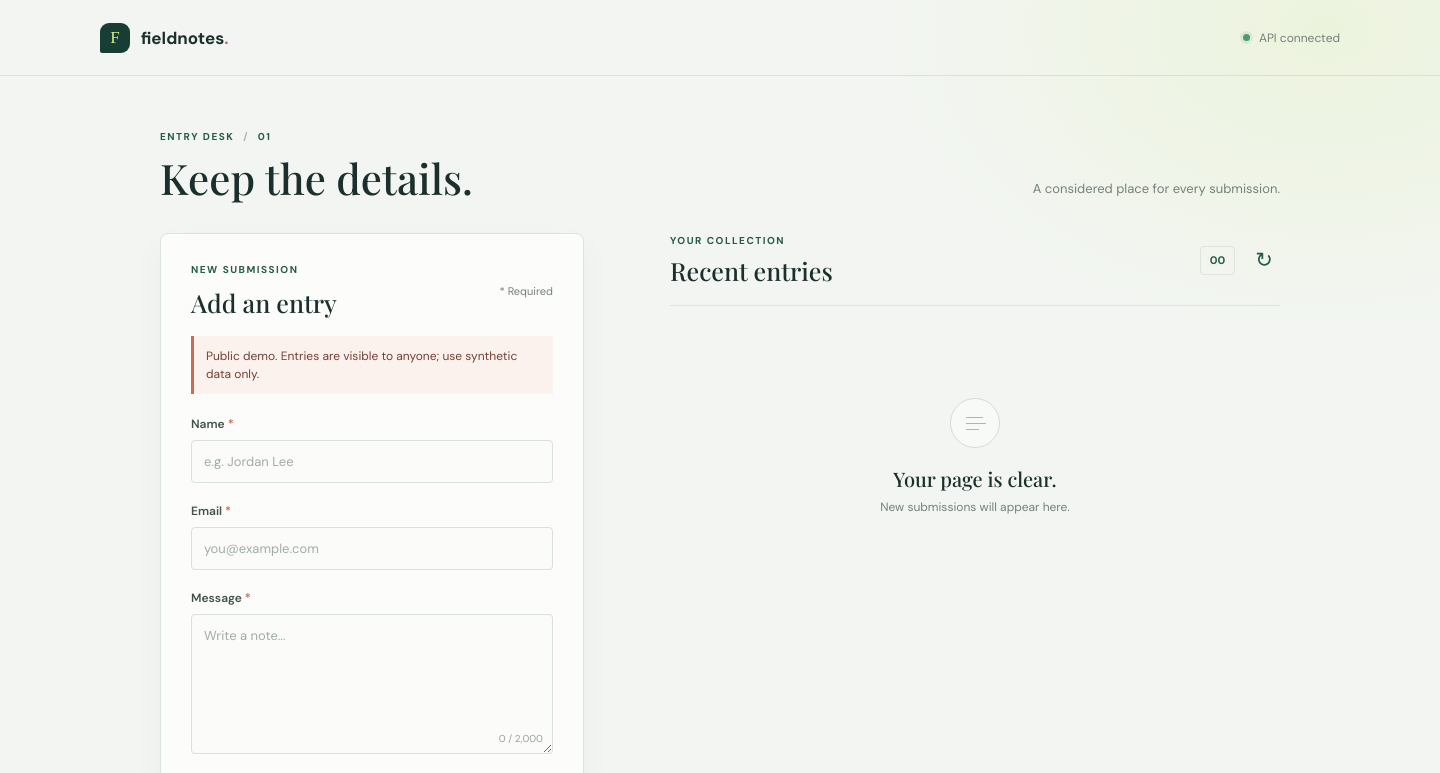
public entries client › posts to the shared API and prepends a confirmed entry
The image size is (1440, 773).
Type "Synthetic User" into the field with test id "entry-form-name-input" at [372, 462], box x1=191 y1=440 x2=553 y2=483
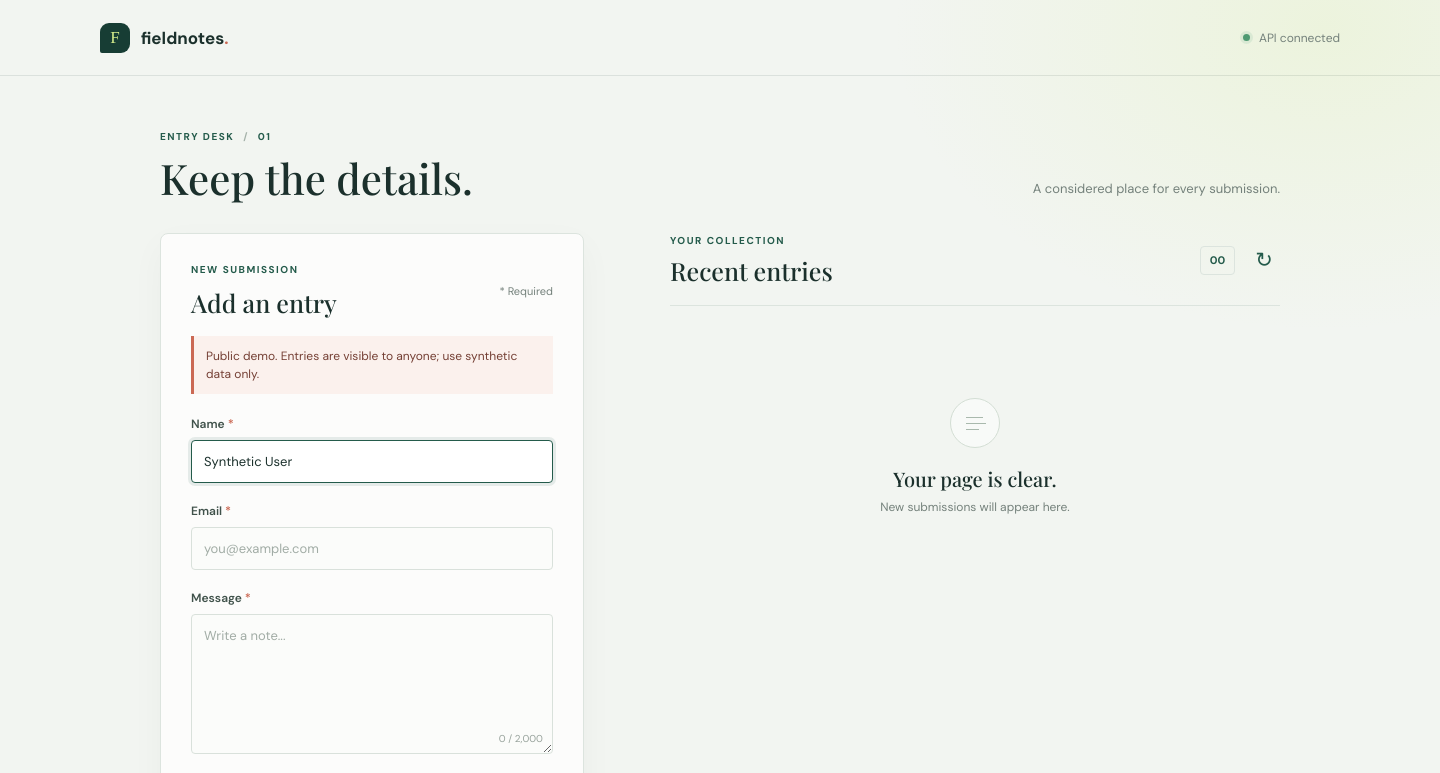
Type "synthetic@example.com" into the field with test id "entry-form-email-input" at [372, 549], box x1=191 y1=527 x2=553 y2=570
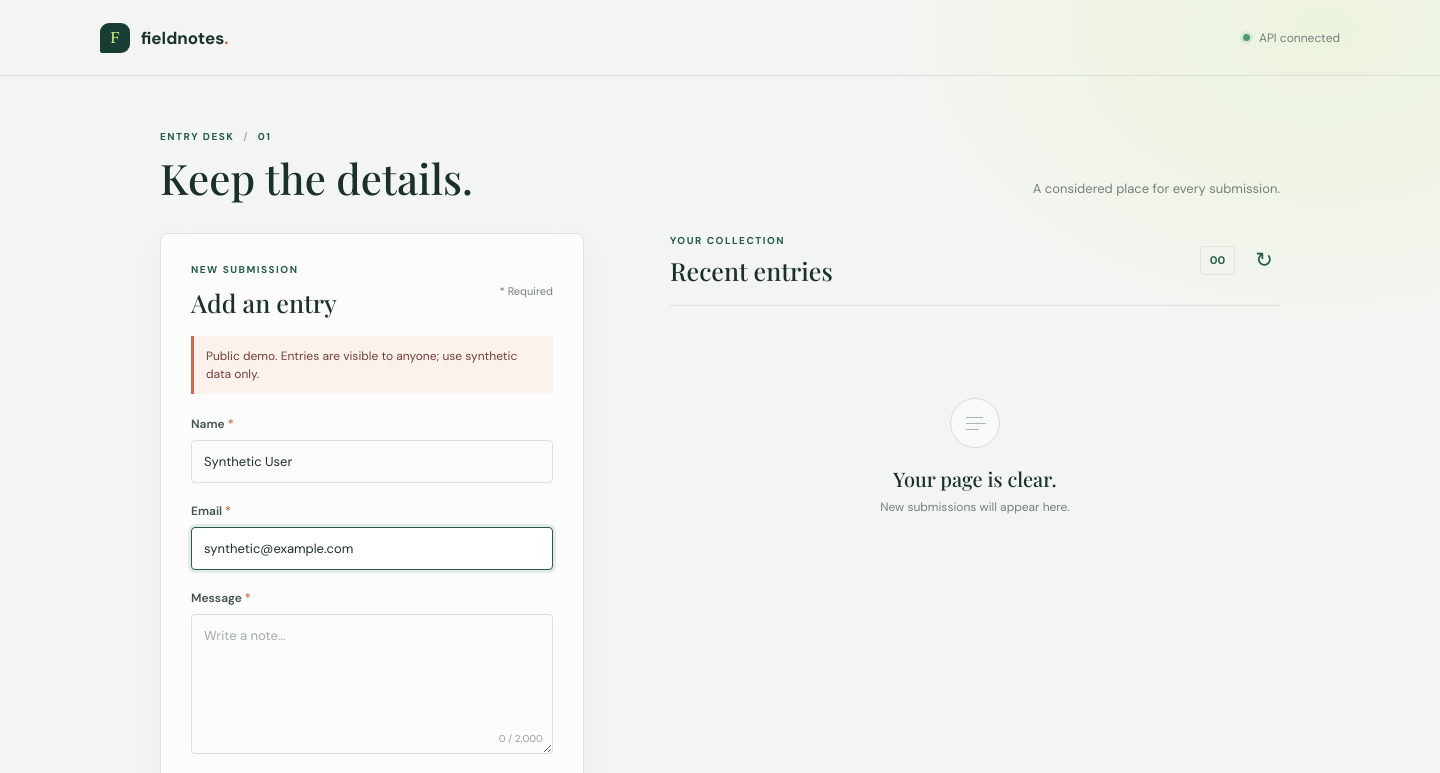
Type "Synthetic message" into the text box with test id "entry-form-message-input" at [372, 684], box x1=191 y1=614 x2=553 y2=754
(page scrolled)
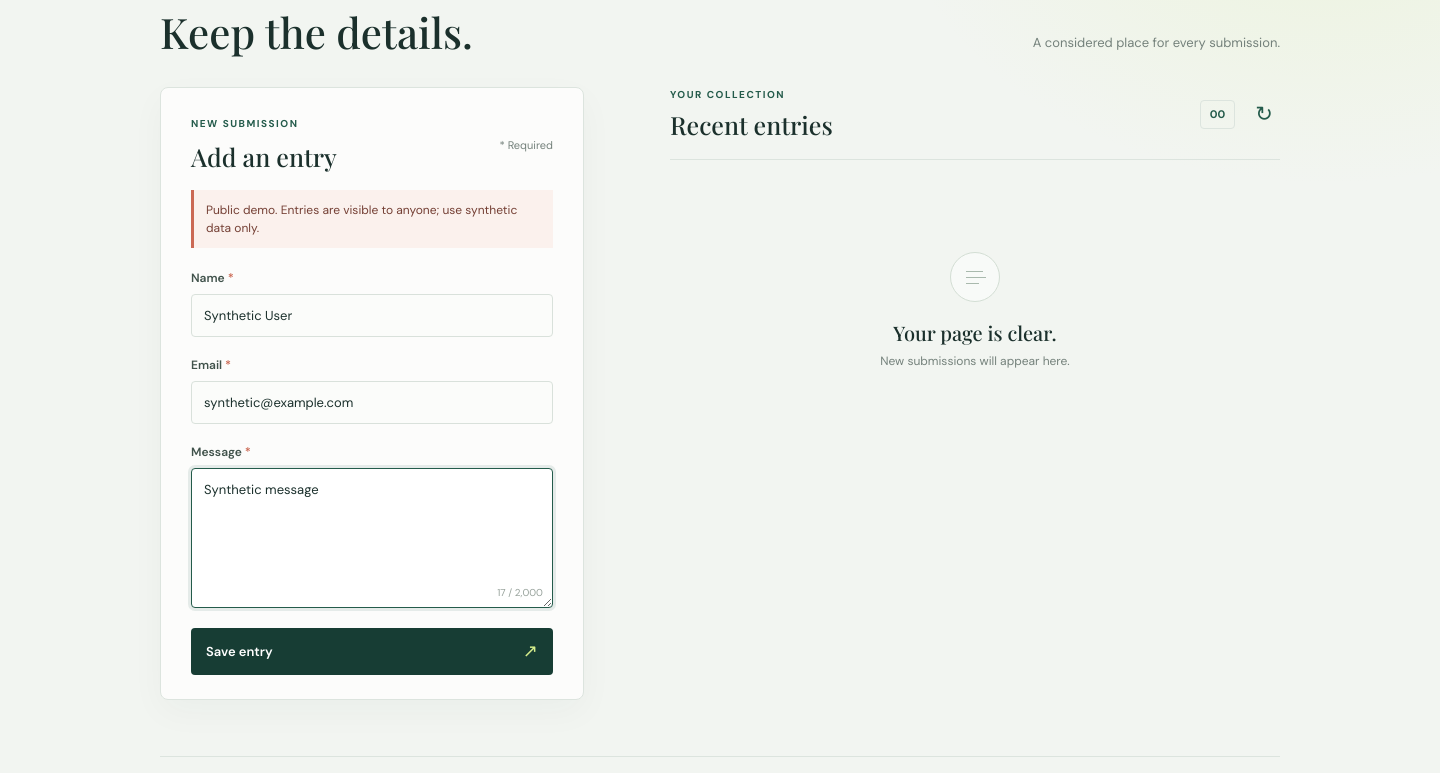
Click the button with test id "entry-form-submit-button" at [239, 651], box x1=191 y1=628 x2=553 y2=675
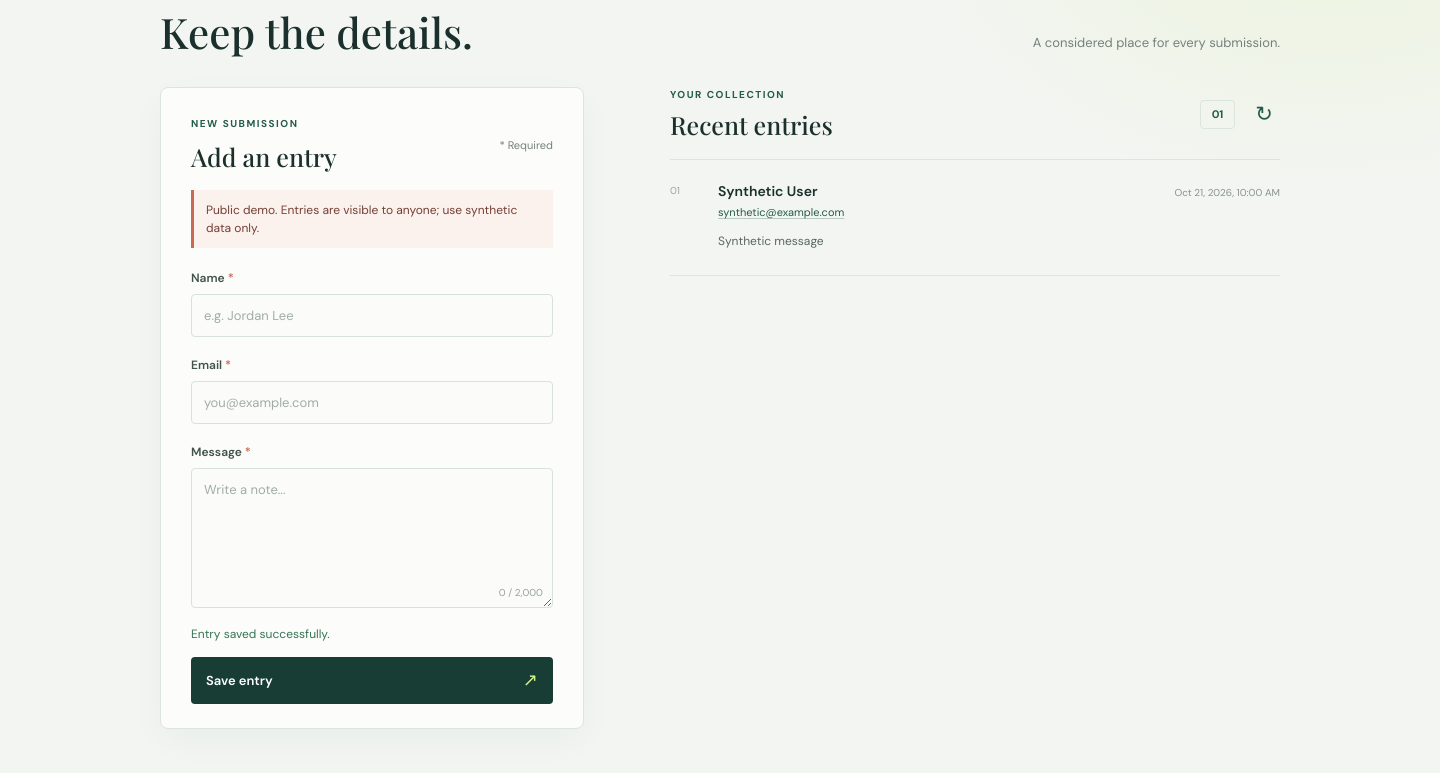
Check: the text "Entry saved successfully." is shown, box x1=191 y1=626 x2=330 y2=642
Check: the field with test id "entry-form-name-input" is empty, box x1=191 y1=294 x2=553 y2=337
